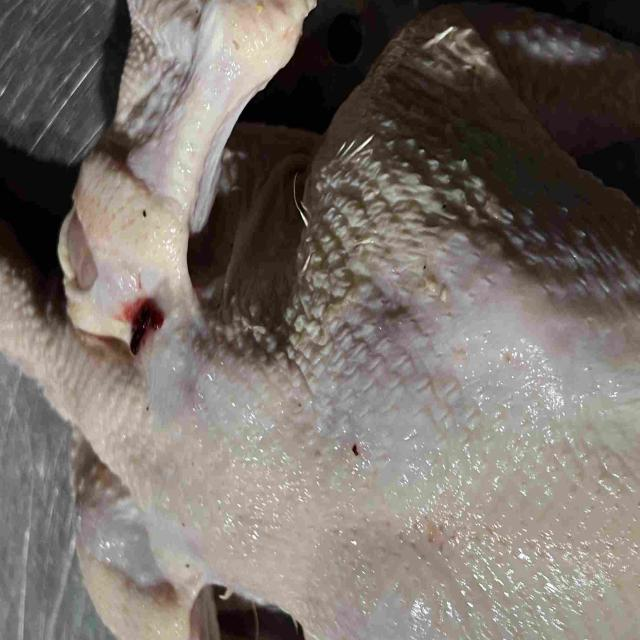back: (174, 218, 640, 631)
leg: (320, 6, 640, 209)
neck: (0, 238, 166, 488)
wing: (58, 0, 312, 321), (70, 440, 315, 640)
